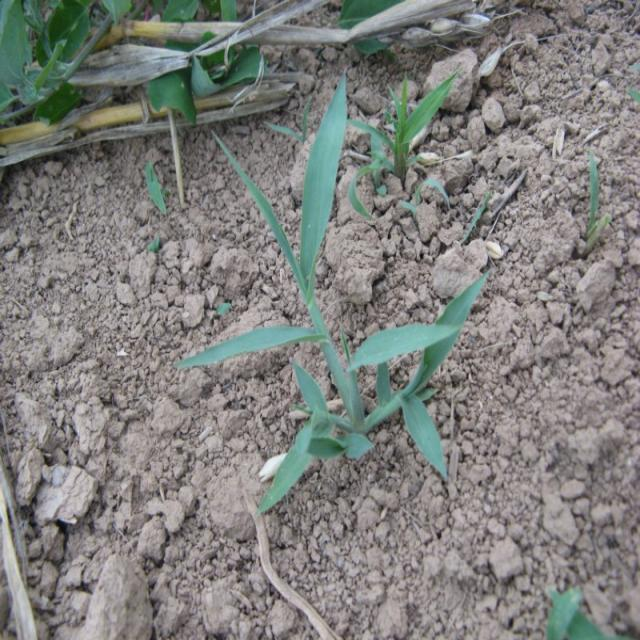bg: (200, 77, 489, 514)
